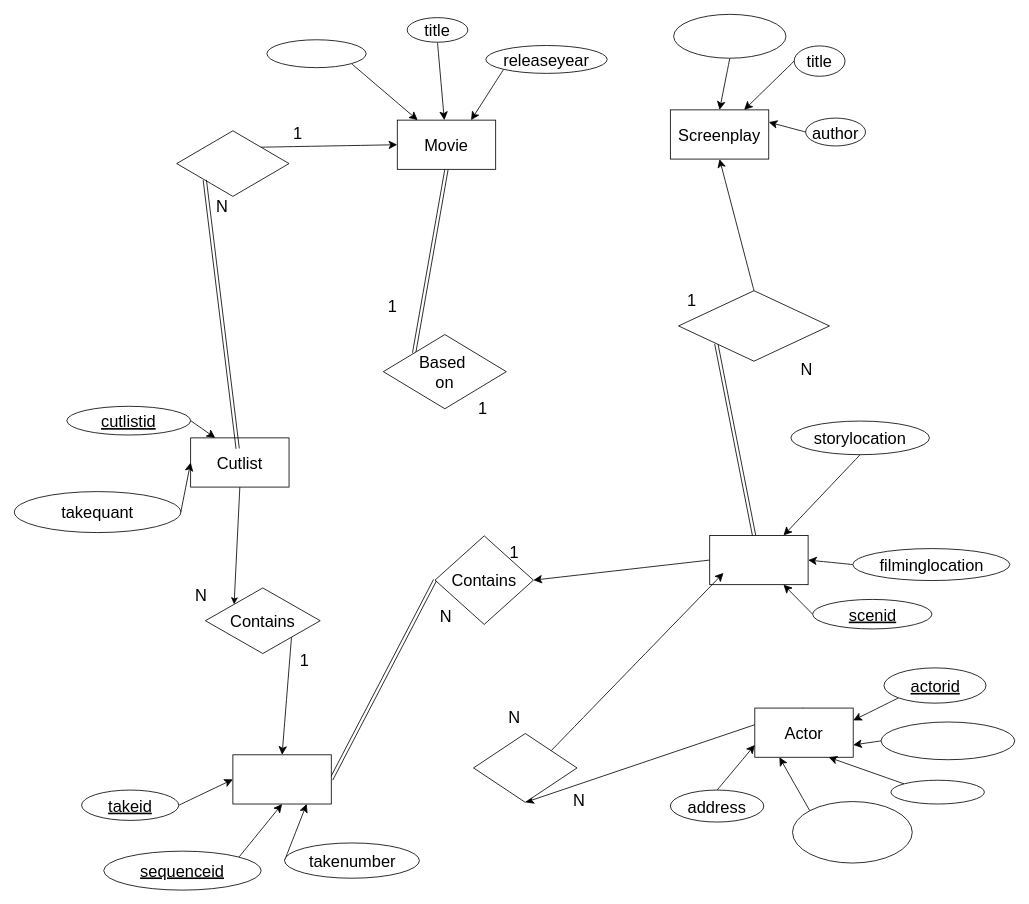
Some shapes in this 1029 by 904 pixel diagram are drawn without their labels. Each missing label, with the box of its shape:
agentname: (880, 721, 1015, 760)
Appears in: (473, 733, 577, 802)
Belongs to: (678, 290, 829, 361)
movieid: (266, 39, 366, 68)
name: (890, 779, 984, 804)
phonenumber: (792, 801, 912, 863)
Scene: (709, 535, 808, 585)
screenplayid: (673, 14, 786, 58)
Take: (232, 754, 331, 804)
Used in: (176, 130, 289, 196)
